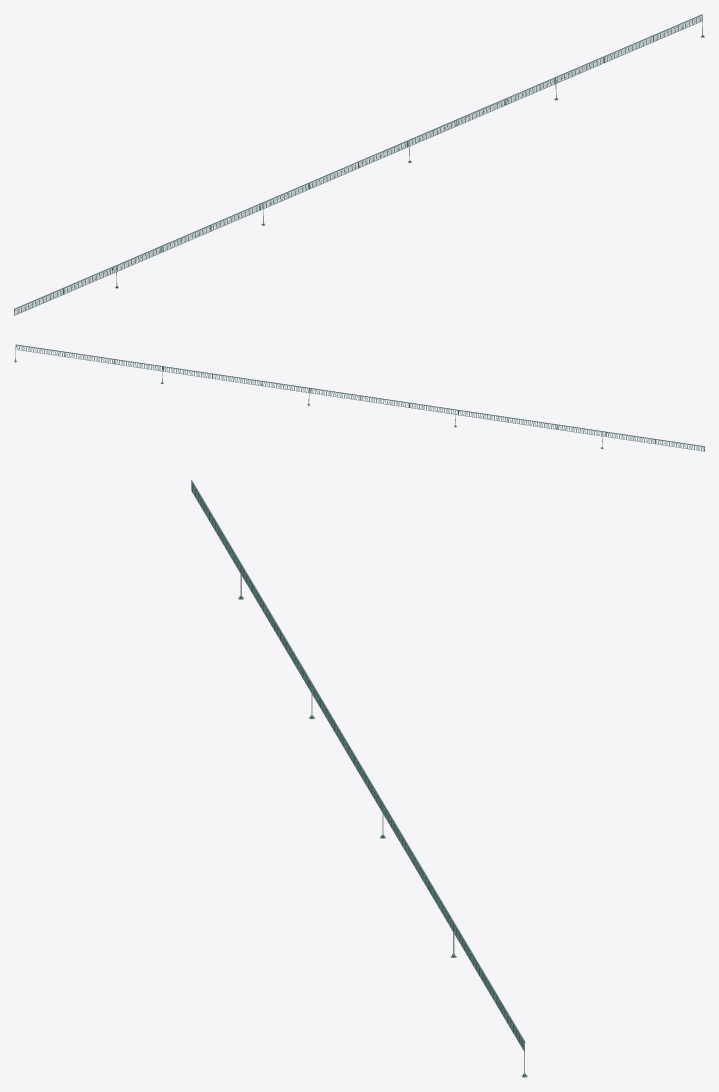
Rendered from test_hero_railing.glb.
The picture shows the model from 3 angles, top to bottom: view 1: azimuth 30°, elevation 25°; view 2: azimuth 150°, elevation 25°; view 3: azimuth 270°, elevation 25°; orthographic projection. The views are drawn at different scales.
Parts seen in each view (by area): view 1: test_railing_array; view 2: test_railing_array; view 3: test_railing_array.
Boxes of the visible parts, x1=… form: test_railing_array: x1=14, y1=14, x2=702, y2=315; test_railing_array: x1=15, y1=344, x2=704, y2=451; test_railing_array: x1=191, y1=480, x2=525, y2=1051.
Size of the model in its own units: 137 by 6.61 by 33.02.
